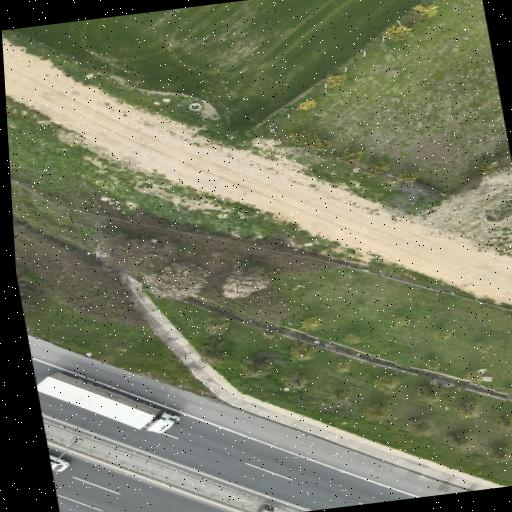car: (49, 454, 69, 470)
truck: (37, 373, 179, 432)
